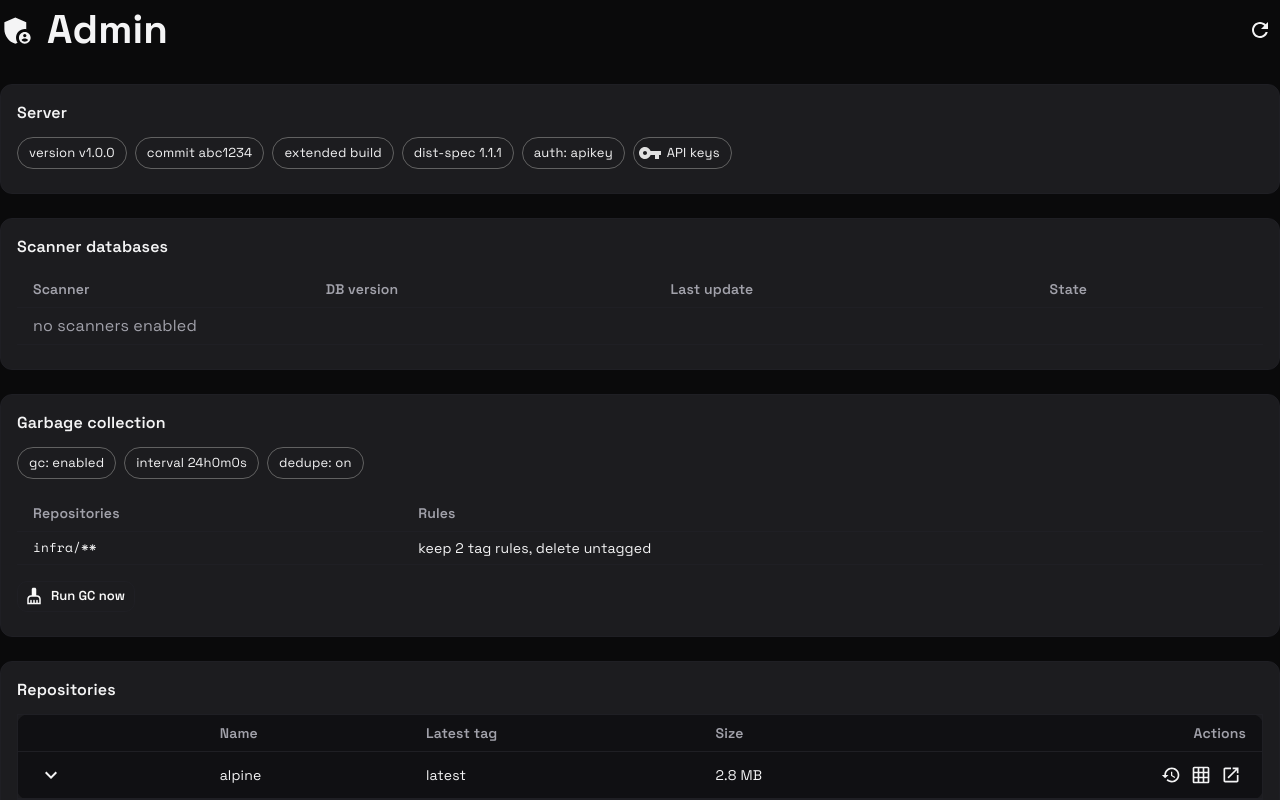
Admin page › expands a repository to list tags
Expected: the link "alpine" is shown, [220,766,261,784]
Click the button with test id "expand-alpine": x=51, y=775 [34,758,68,792]
(page scrolled)
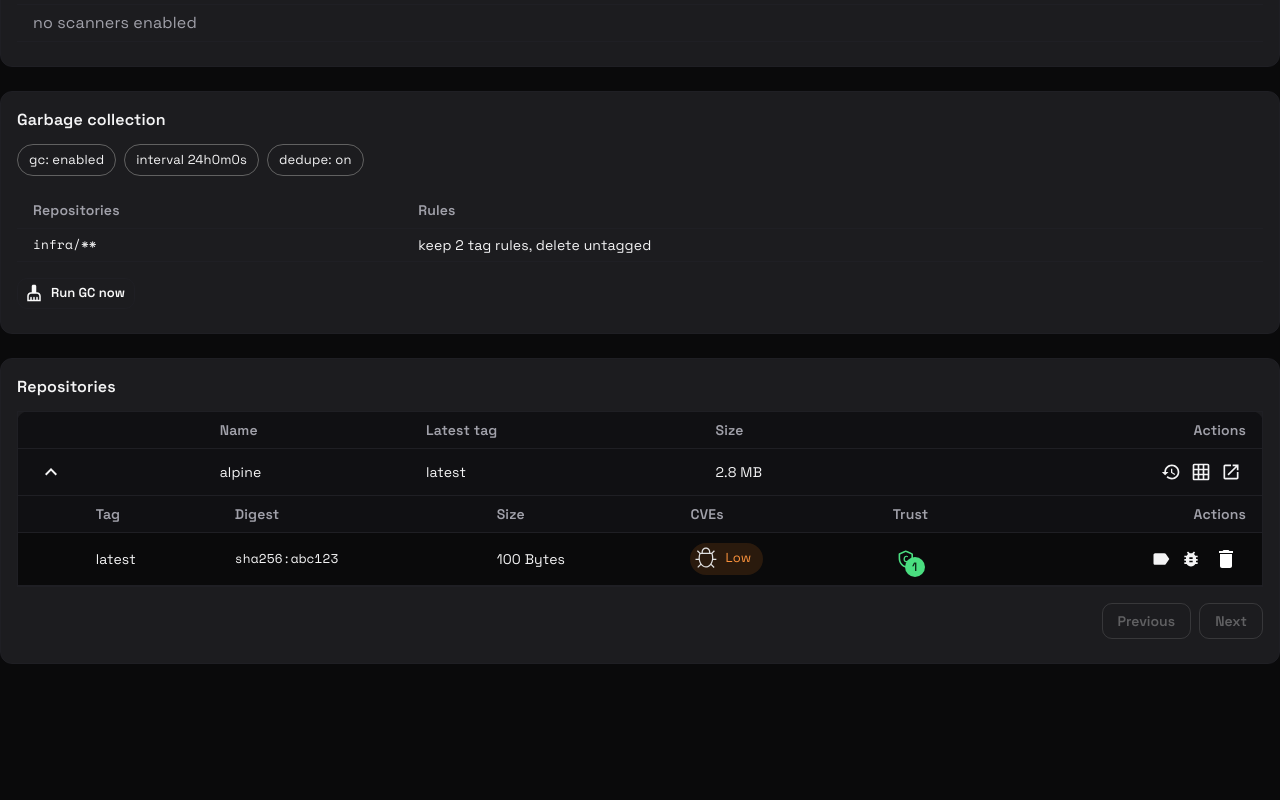
Now the text "sha256:abc123" is shown, box [219,532,481,585]
